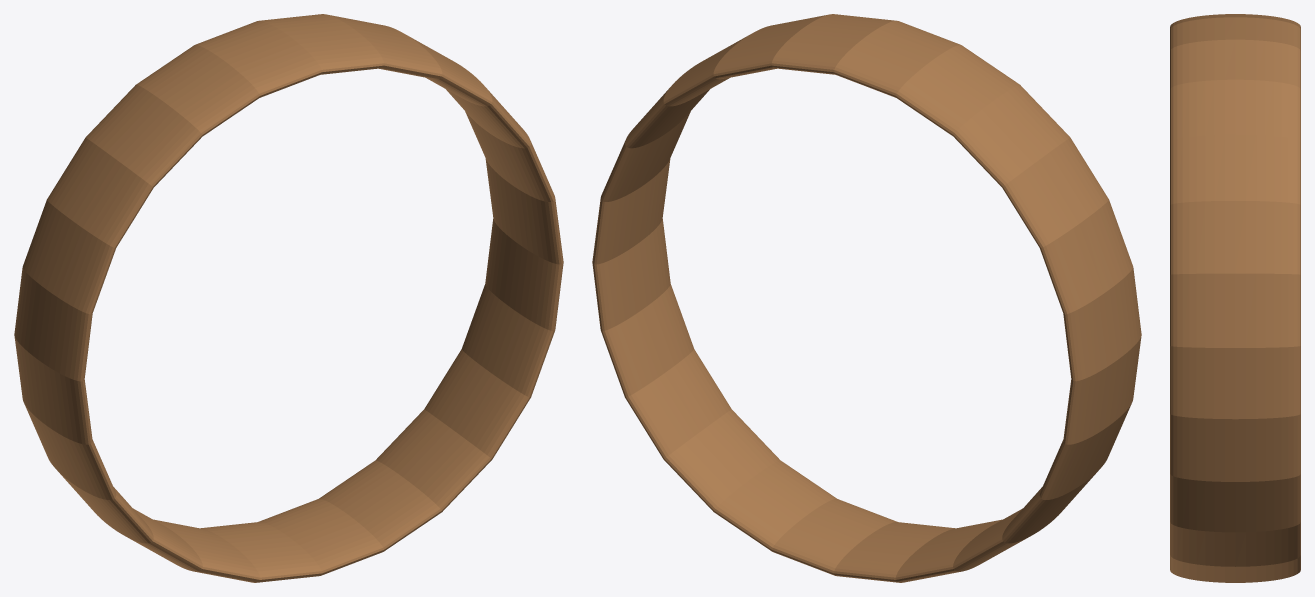
Rendered from block_9.obj.
The picture shows the model from 3 angles, left to right: view 1: azimuth 30°, elevation 25°; view 2: azimuth 150°, elevation 25°; view 3: azimuth 270°, elevation 25°; orthographic projection.
Parts seen in each view (by area): view 1: obj_0; view 2: obj_0; view 3: obj_0.
Part boxes in pixels (box(x1,y1,x2,y2)): obj_0: box(14, 14, 563, 582); obj_0: box(592, 14, 1141, 582); obj_0: box(1170, 14, 1300, 582).
Size of the model in its own units: 21.8 by 21.8 by 5.
